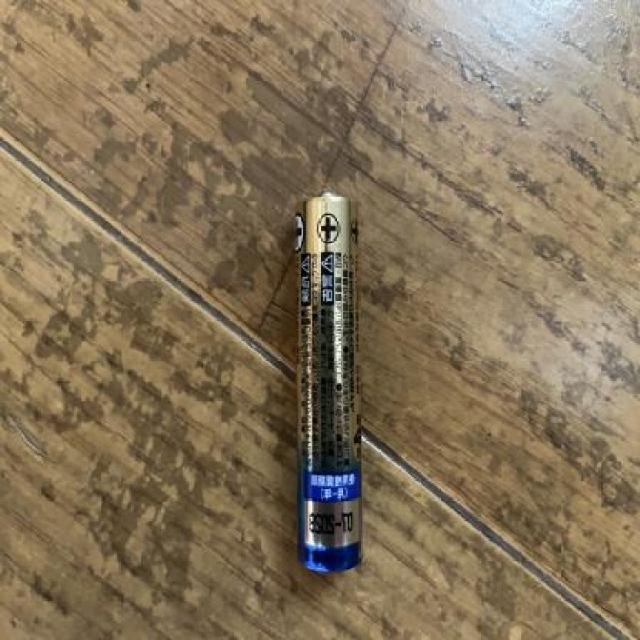hazardous waste: (296, 187, 366, 576)
